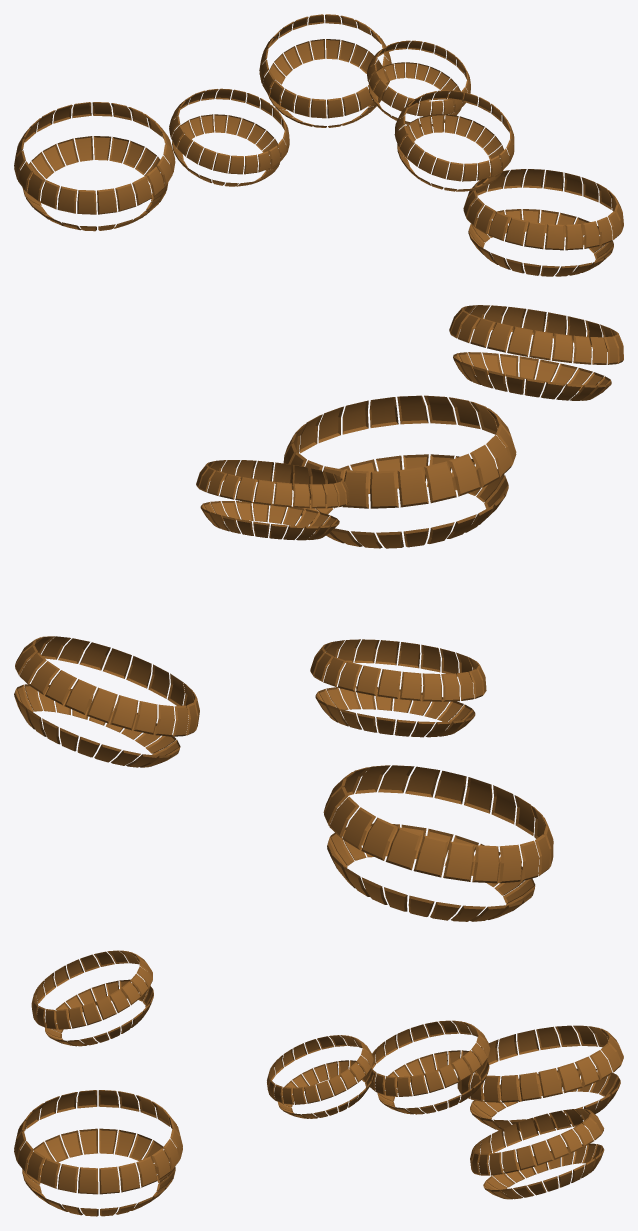
The model's file is liangkuai.FBX.
3 renders of one model, top to bottom at view 1: azimuth 30°, elevation 25°; view 2: azimuth 150°, elevation 25°; view 3: azimuth 270°, elevation 25°, orthographic. The views are drawn at different scales.
Visible parts, largest first — view 1: liangkuai_d09, liangkuai24, liangkuai01, liangkuai_d10, liangkuai23, liangkuai_d08, liangkuai_d21, liangkuai_d20, liangkuai02, liangkuai_d11, liangkuai22, liangkuai_d07 (+27 smaller); view 2: liangkuai04, liangkuai_d01, liangkuai03, liangkuai_d02, liangkuai05, liangkuai02, liangkuai_d03, liangkuai_d24, liangkuai06, liangkuai_d13, liangkuai01, liangkuai_d04 (+22 smaller); view 3: liangkuai_d05, liangkuai_d06, liangkuai_d04, liangkuai_d07, liangkuai_d03, liangkuai_d17, liangkuai_d18, liangkuai_d16, liangkuai22, liangkuai_d19, liangkuai23, liangkuai21 (+41 smaller).
Boxes of the visible parts, box(x1,y1,x2,y2) form: liangkuai_d09: box(524, 221, 559, 276); liangkuai24: box(75, 102, 112, 161); liangkuai01: box(57, 102, 91, 165); liangkuai_d10: box(544, 224, 577, 276); liangkuai23: box(93, 103, 131, 160); liangkuai_d08: box(505, 217, 540, 275); liangkuai_d21: box(522, 170, 563, 231); liangkuai_d20: box(540, 172, 582, 233); liangkuai02: box(42, 104, 72, 171); liangkuai_d11: box(565, 224, 591, 275); liangkuai22: box(109, 107, 148, 163); liangkuai_d07: box(488, 211, 524, 273); liangkuai04: box(413, 835, 460, 920); liangkuai_d01: box(370, 470, 428, 547); liangkuai03: box(385, 827, 434, 916); liangkuai_d02: box(397, 467, 454, 543); liangkuai05: box(443, 841, 485, 921); liangkuai02: box(361, 817, 407, 911); liangkuai_d03: box(424, 461, 476, 538); liangkuai_d24: box(342, 470, 403, 548); liangkuai06: box(470, 845, 506, 921); liangkuai_d13: box(376, 395, 428, 488); liangkuai01: box(342, 807, 387, 904); liangkuai_d04: box(449, 453, 493, 532); liangkuai_d05: box(79, 1090, 118, 1154); liangkuai_d06: box(61, 1090, 97, 1157); liangkuai_d04: box(99, 1091, 139, 1154); liangkuai_d07: box(45, 1092, 77, 1162); liangkuai_d03: box(115, 1095, 156, 1156); liangkuai_d17: box(78, 1167, 118, 1216); liangkuai_d18: box(99, 1166, 136, 1214); liangkuai_d16: box(57, 1164, 98, 1216); liangkuai22: box(557, 1062, 598, 1119); liangkuai_d19: box(118, 1162, 152, 1210); liangkuai23: box(574, 1056, 610, 1114); liangkuai21: box(538, 1068, 582, 1123).
Bounding box in the file's own units: 1395 × 789 × 1868.
